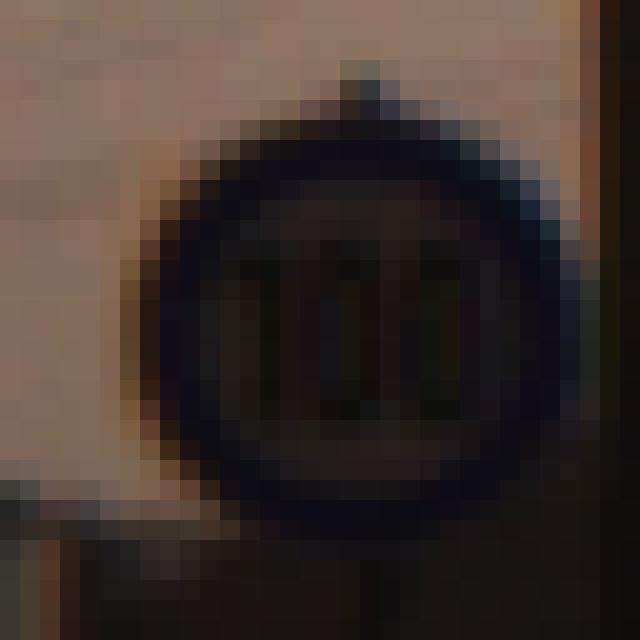SPEED LIMIT 100: (147, 123, 588, 540)
